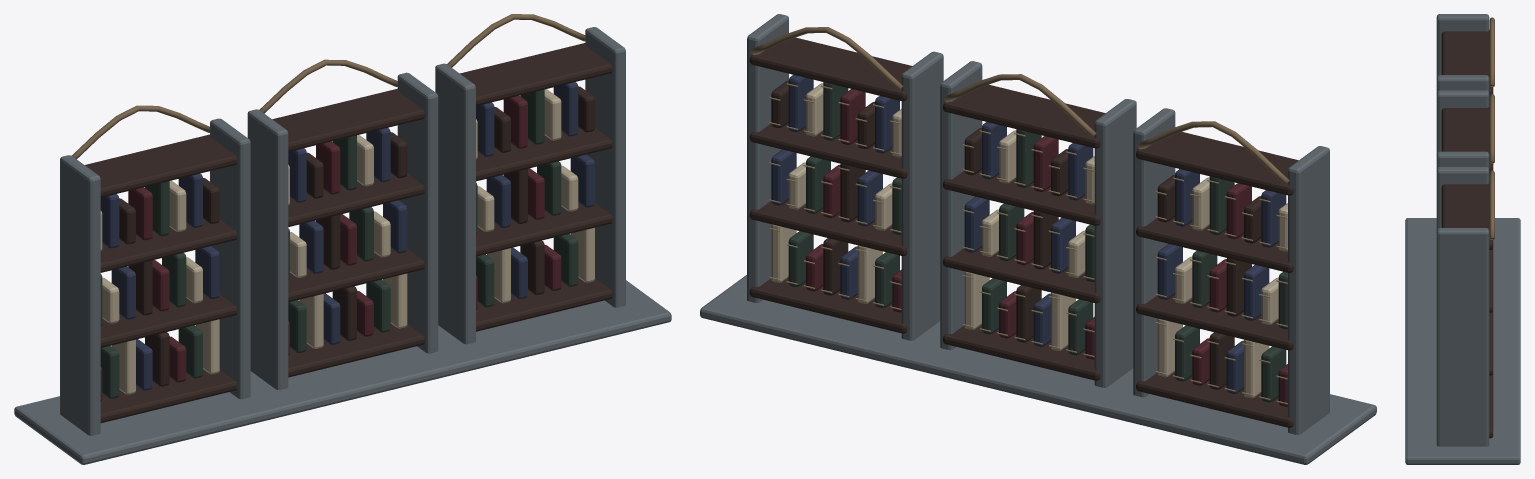
Rendered from drowned_library.glb.
3 renders of one model, left to right at view 1: azimuth 30°, elevation 25°; view 2: azimuth 150°, elevation 25°; view 3: azimuth 270°, elevation 25°, orthographic. The views are drawn at different scales.
Visible parts, largest first — view 1: Body__stone, Body__leather, Body__violet, Body__linen, Body__sage, Body__wine, Body__bronze; view 2: Body__stone, Body__leather, Body__violet, Body__linen, Body__sage, Body__wine, Body__bronze, Body__gold; view 3: Body__stone, Body__leather, Body__bronze.
Boxes of the visible parts, bbox=[...] form: Body__stone: bbox=[14, 27, 671, 464]; Body__leather: bbox=[85, 43, 612, 423]; Body__violet: bbox=[100, 82, 594, 390]; Body__linen: bbox=[100, 89, 594, 394]; Body__sage: bbox=[100, 89, 578, 398]; Body__wine: bbox=[100, 96, 561, 401]; Body__bronze: bbox=[72, 14, 585, 159]; Body__stone: bbox=[700, 14, 1376, 464]; Body__leather: bbox=[749, 37, 1298, 427]; Body__violet: bbox=[771, 75, 1286, 393]; Body__linen: bbox=[771, 83, 1287, 398]; Body__sage: bbox=[788, 82, 1287, 402]; Body__wine: bbox=[806, 89, 1287, 406]; Body__bronze: bbox=[751, 27, 1289, 184]; Body__gold: bbox=[769, 83, 1287, 404]; Body__stone: bbox=[1405, 14, 1520, 464]; Body__leather: bbox=[1441, 30, 1493, 438]; Body__bronze: bbox=[1489, 17, 1494, 239].
Size of the model in its own units: 7.4 by 3.55 by 1.5.
